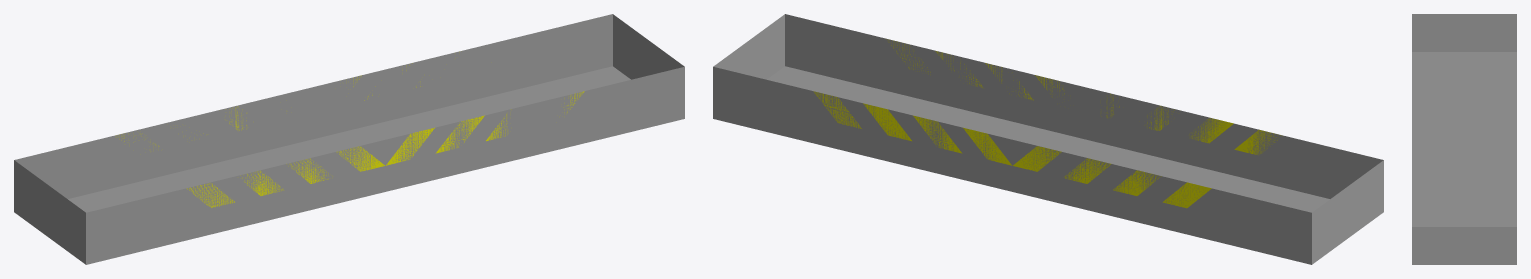
The model's file is blok.obj.
3 views of the same model, side by side, from view 1: azimuth 30°, elevation 25°; view 2: azimuth 150°, elevation 25°; view 3: azimuth 270°, elevation 25° (orthographic). The views are drawn at different scales.
Bounding box in the file's own units: 1680 × 140 × 350.
